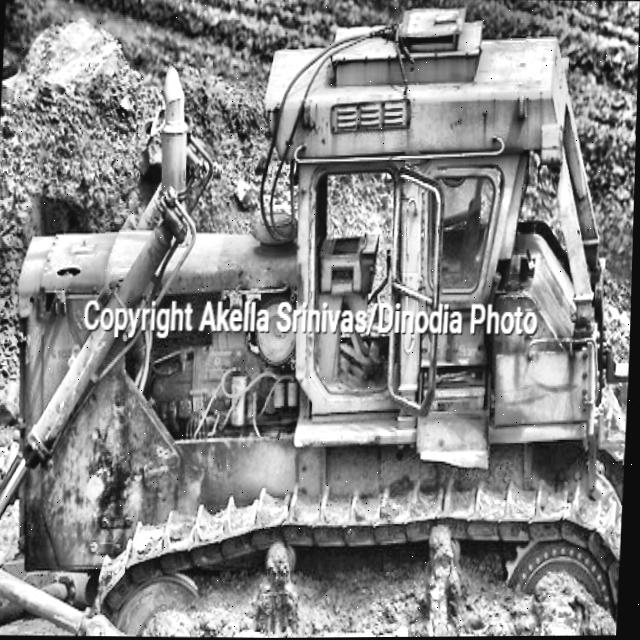buldozerpayloadergrader: (0, 7, 640, 640)
